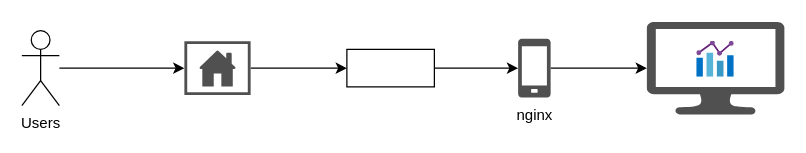
Some shapes in this 806 by 153 pixel diagram are drawn without their labels. Here are the shapes that lost their labels. From the top down, the box of each, then its label:
(184, 41, 250, 94): https://your-website.com
(346, 48, 434, 87): ngrok
